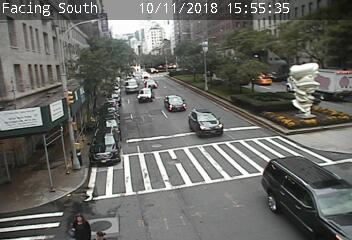car: (262, 157, 352, 239), (189, 109, 222, 136), (164, 95, 186, 112), (137, 88, 153, 101), (144, 80, 157, 89), (140, 71, 150, 79)
